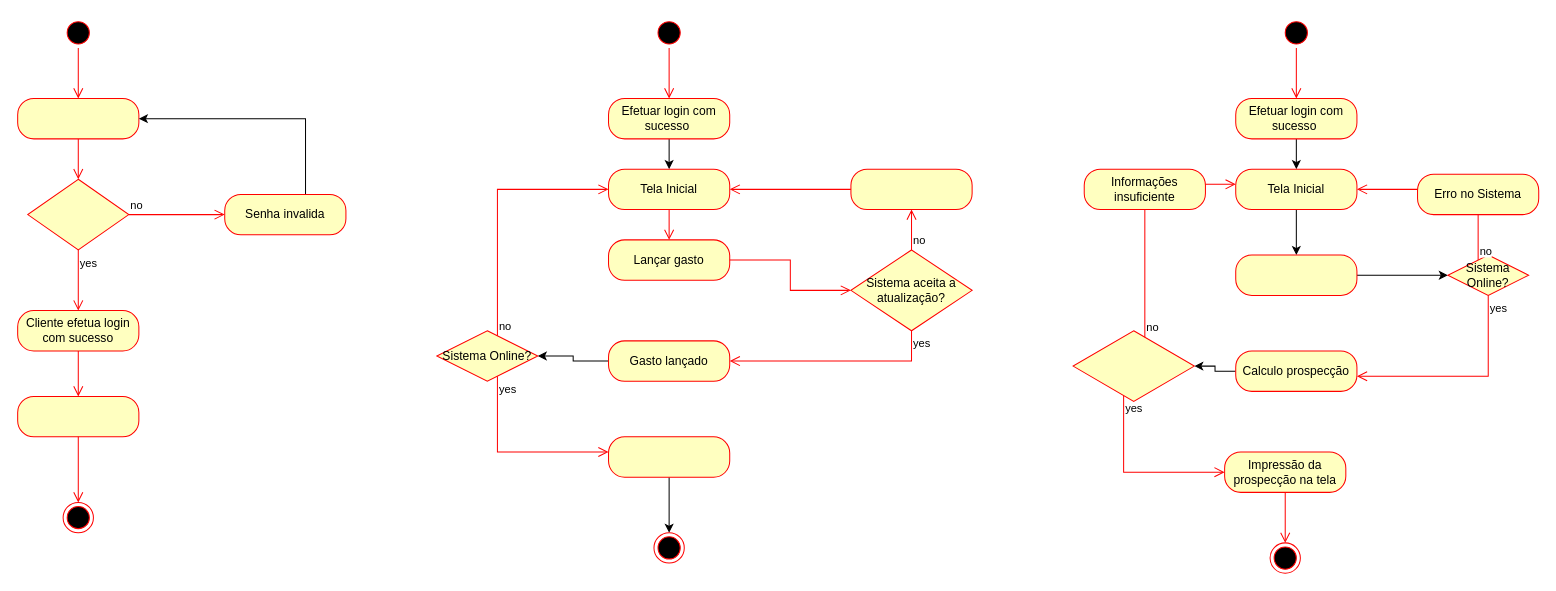
Image size: 1556x591. Some labels were removed from this diagram. The shapes that lost their labels are listed below. From the top down, each one's box as (x1, y1, x2, y2) in pixels, then its label:
(17, 97, 139, 139): Efetuar Login
(850, 168, 972, 210): informações invalidas
(27, 178, 129, 250): Longin e senha corretos?
(1235, 254, 1357, 295): Gerar prospecção
(1072, 330, 1194, 401): Há informações suficiente no sistema?
(17, 395, 139, 437): Abre tela inicial para o cliente
(608, 436, 730, 477): Atualização de prospecção
